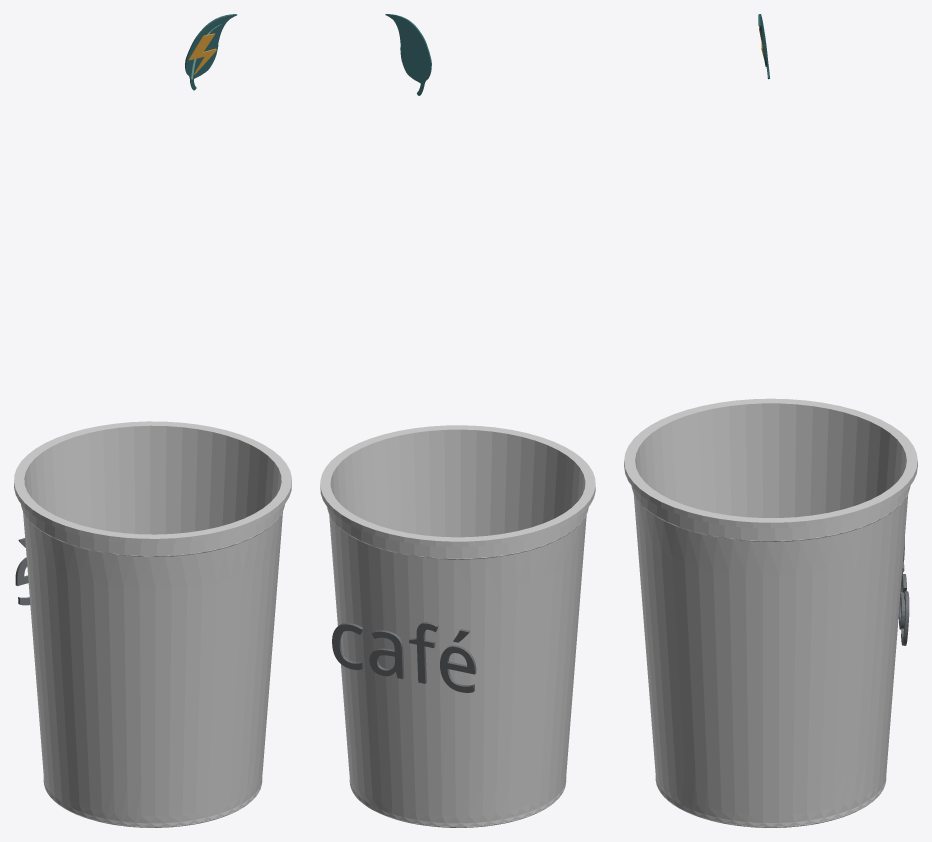
File: cafeina.glb
3 views of the same model, side by side, from view 1: azimuth 30°, elevation 25°; view 2: azimuth 150°, elevation 25°; view 3: azimuth 270°, elevation 25° (orthographic). The views are drawn at different scales.
Parts seen in each view (by area): view 1: obj_2, path182; view 2: obj_2, path182; view 3: obj_2.
Part boxes in pixels (left/top/right/bottom): obj_2: left=14, top=421, right=291, bottom=827; path182: left=185, top=14, right=236, bottom=90; obj_2: left=320, top=425, right=595, bottom=827; path182: left=385, top=14, right=431, bottom=95; obj_2: left=624, top=398, right=917, bottom=827.
Bounding box in the file's own units: 2.92 × 8.73 × 2.92.
